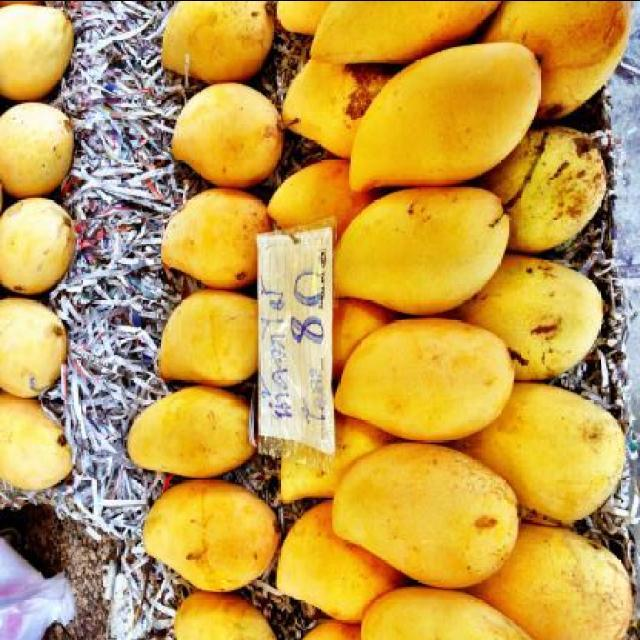Mango: (128, 2, 637, 640), (0, 1, 75, 488), (141, 485, 279, 601)
